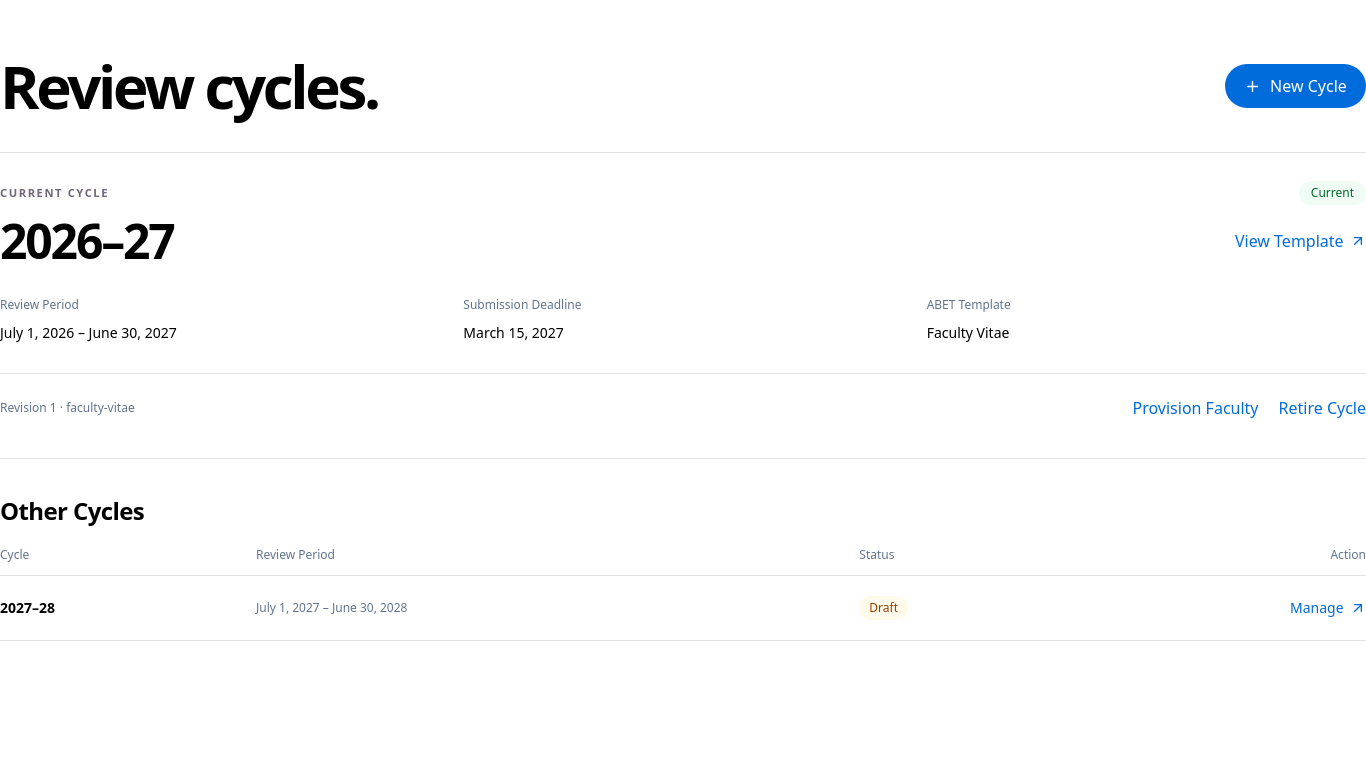
Test: ReviewCycleAdministration › creates a draft with the reference form fields
Click the button "New Cycle": coordinates (1296, 86) [1225, 64, 1365, 108]
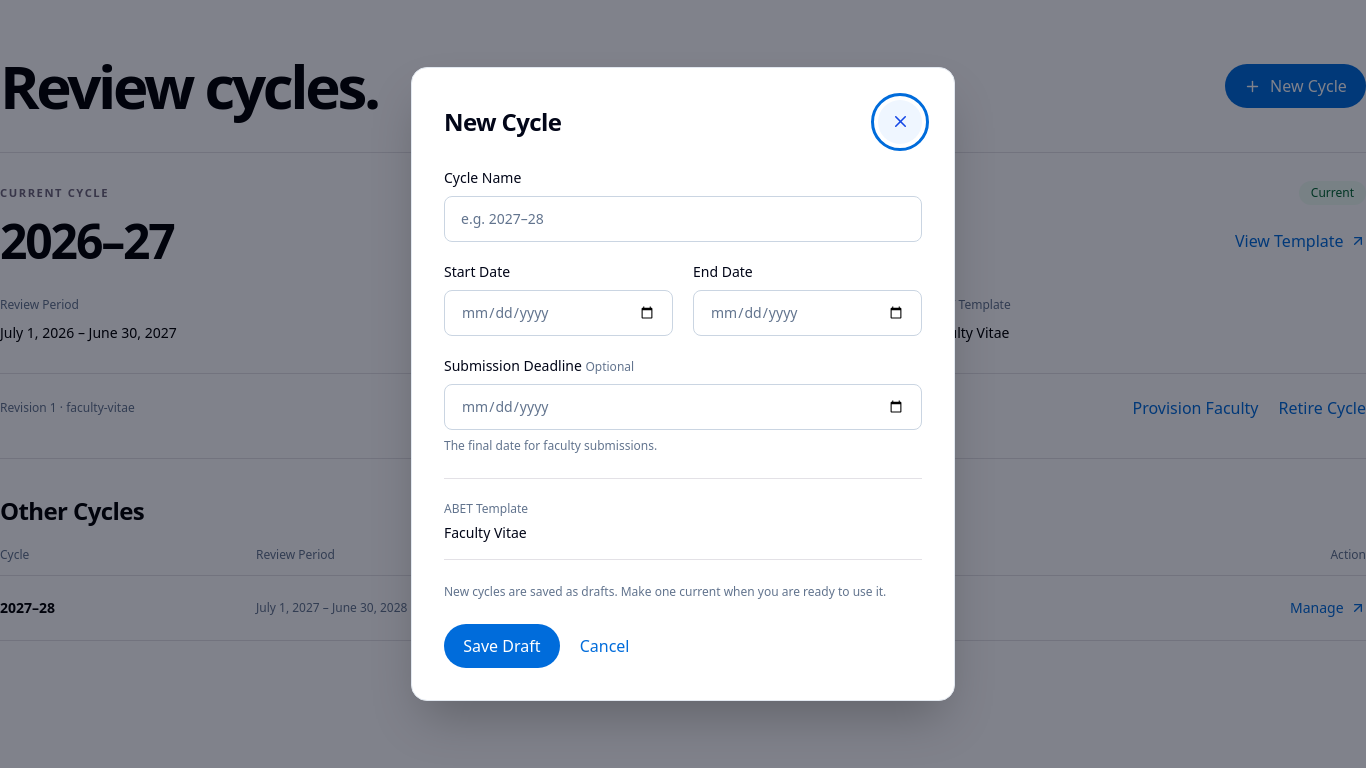
In the field labelled "Cycle Name": coordinates (683, 219) [444, 196, 922, 242], type "2028–29"
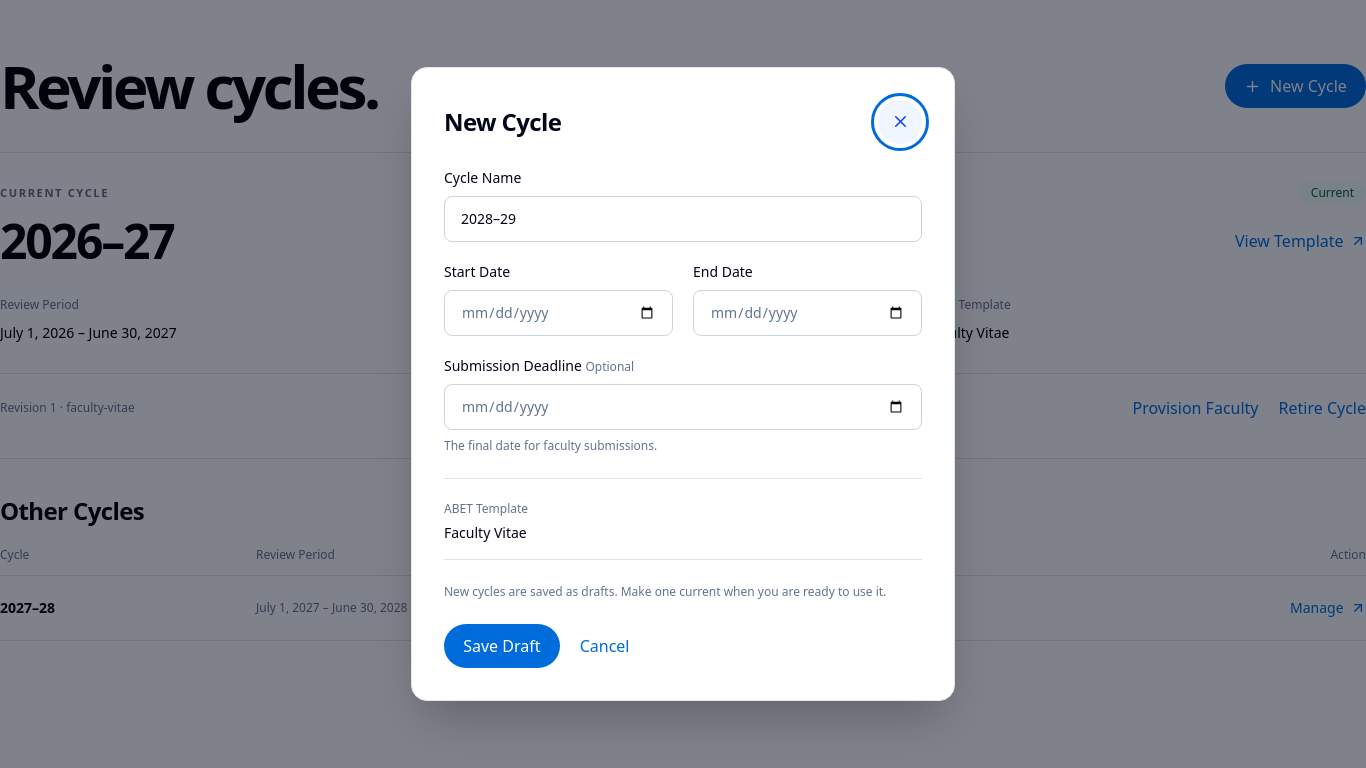
In the date field labelled "Start Date": coordinates (558, 313) [444, 290, 673, 336], type "2028-07-01"
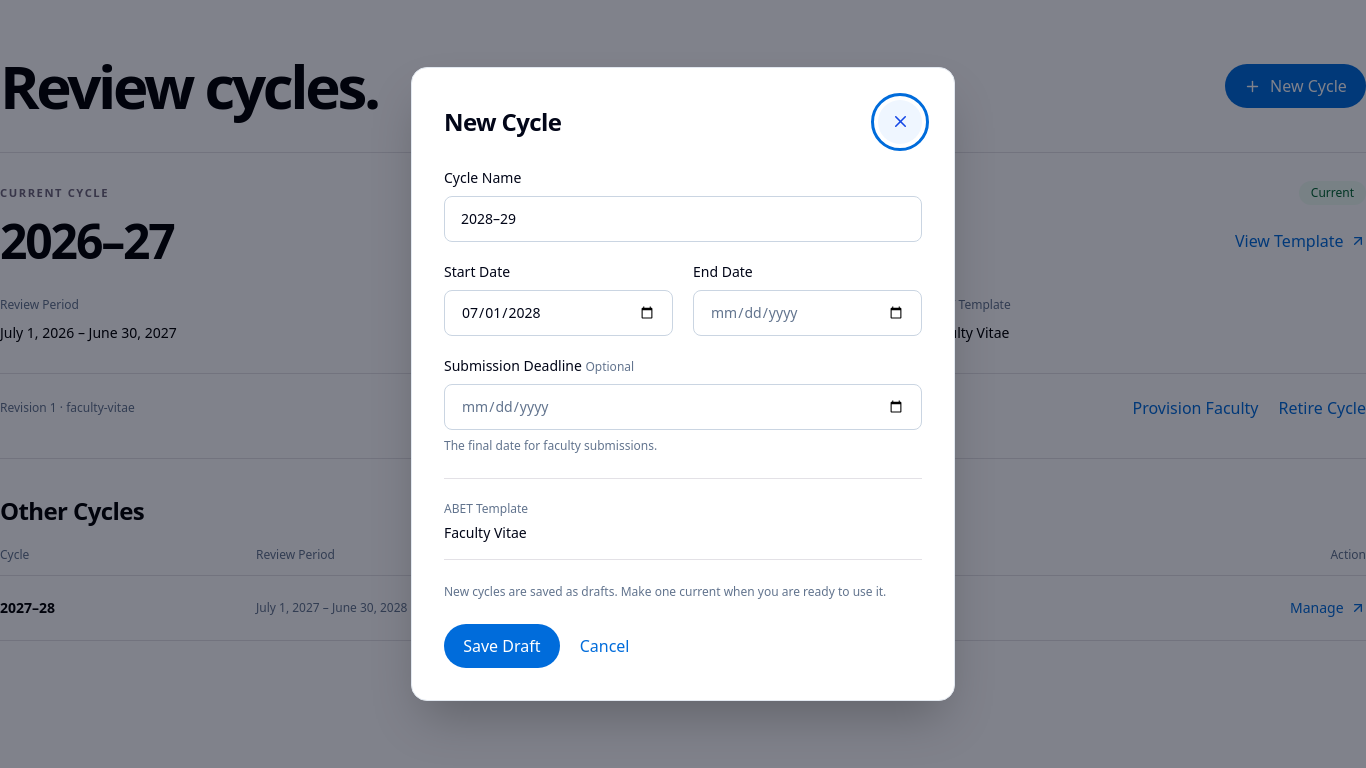
In the date field labelled "End Date": coordinates (808, 313) [693, 290, 922, 336], type "2029-06-30"
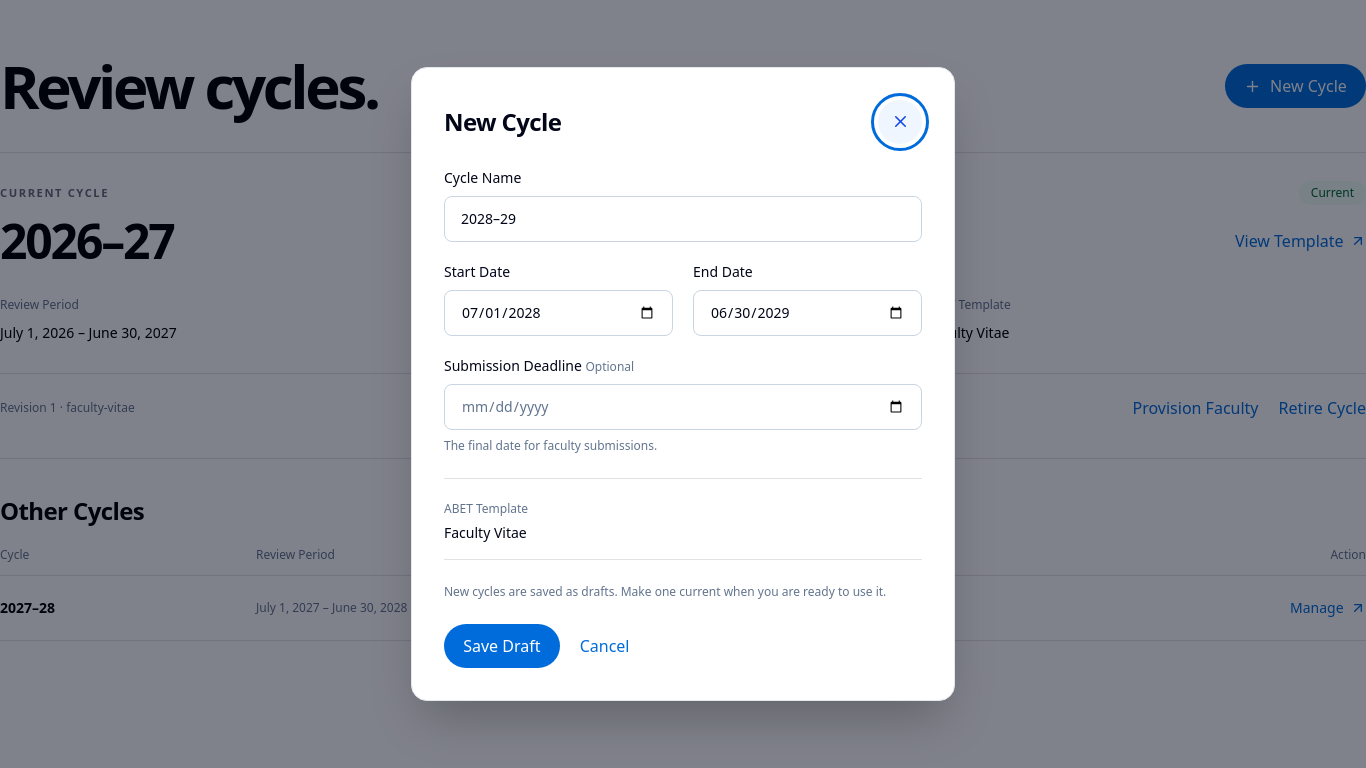
In the date field labelled "Submission Deadline": coordinates (683, 407) [444, 384, 922, 430], type "2029-03-15"
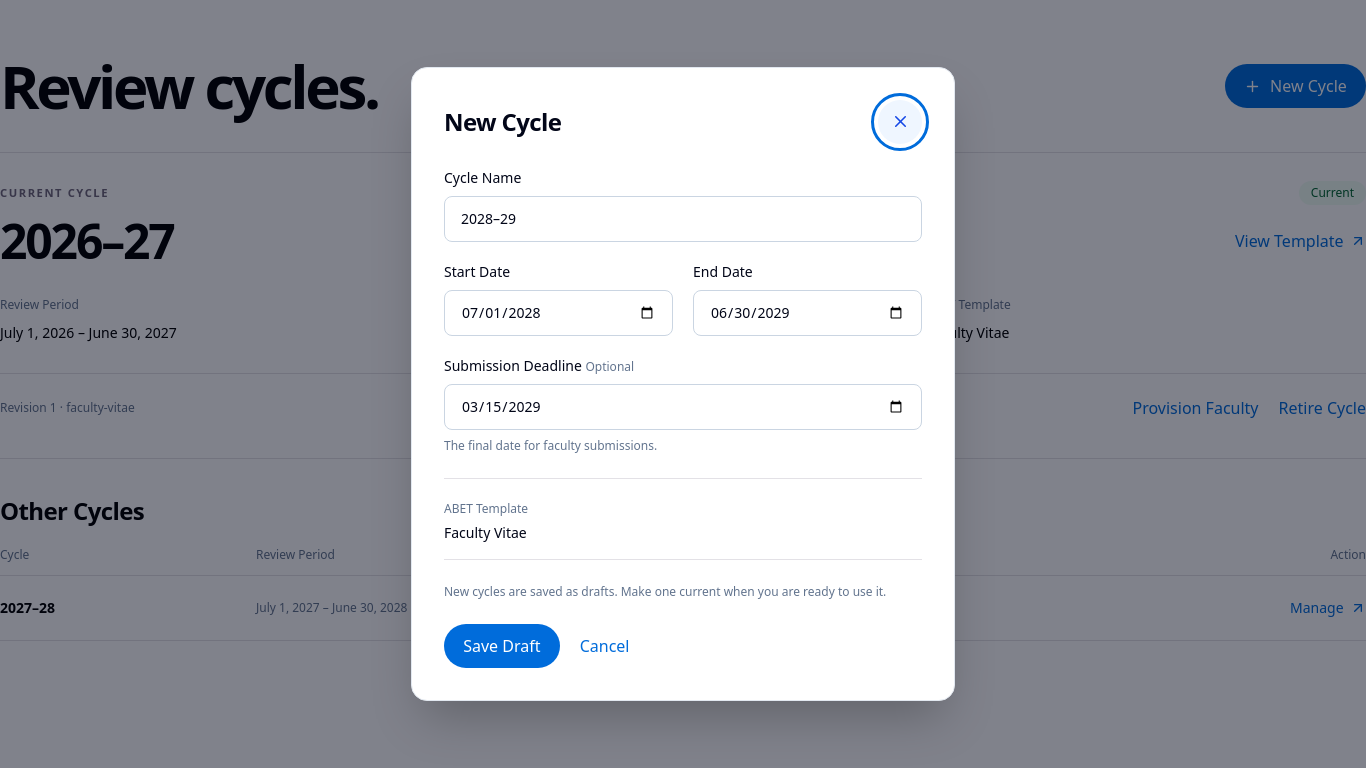
Submit the form labelled "Cycle Name", box [444, 168, 922, 668]
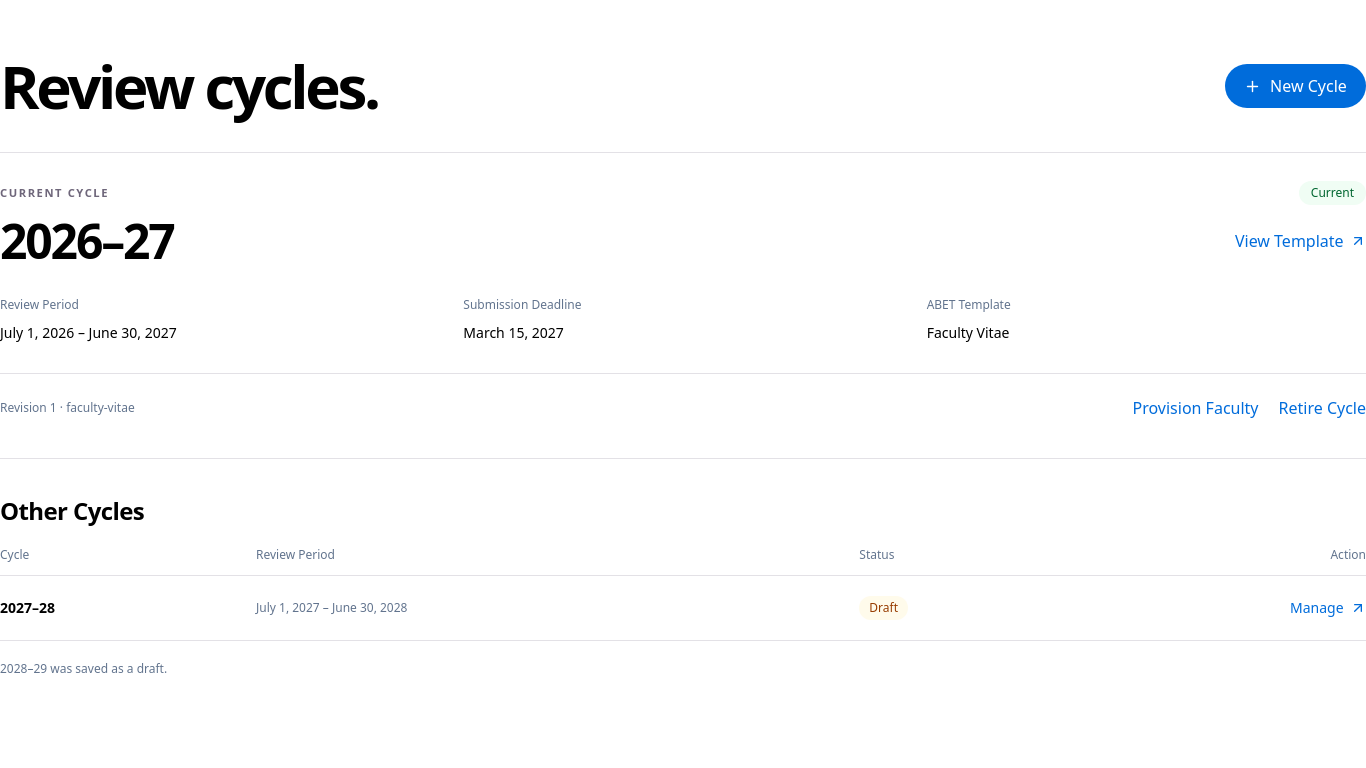
Expected: the message shows "2028–29 was saved as a draft", [0, 660, 167, 677]
